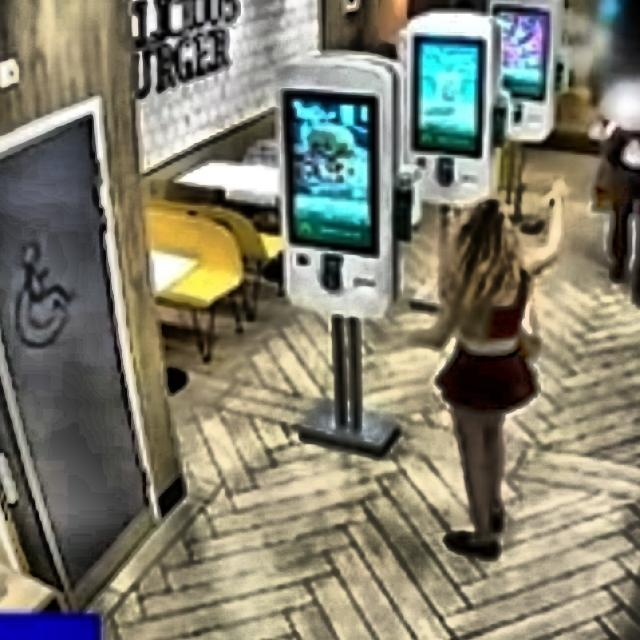Human: (398, 184, 578, 601)
